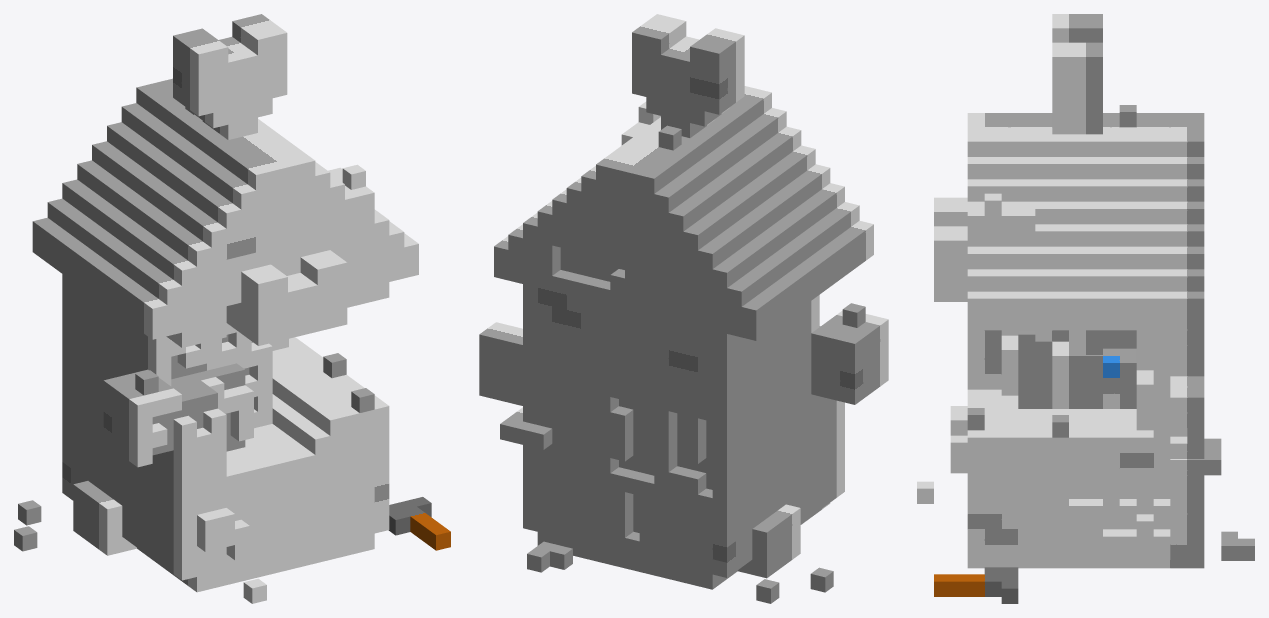
File: HOME#14_GLB.glb
3 views of the same model, side by side, from view 1: azimuth 30°, elevation 25°; view 2: azimuth 150°, elevation 25°; view 3: azimuth 270°, elevation 25° (orthographic).
Visible parts, largest first — view 1: Node-Local; view 2: Node-Local; view 3: Node-Local.
Part boxes in pixels (<box>): Node-Local: <box>14,14,450,603</box>; Node-Local: <box>479,14,888,603</box>; Node-Local: <box>917,14,1254,603</box>.
Size of the model in its own units: 23 by 32 by 20.
1 material, 1 textured.
